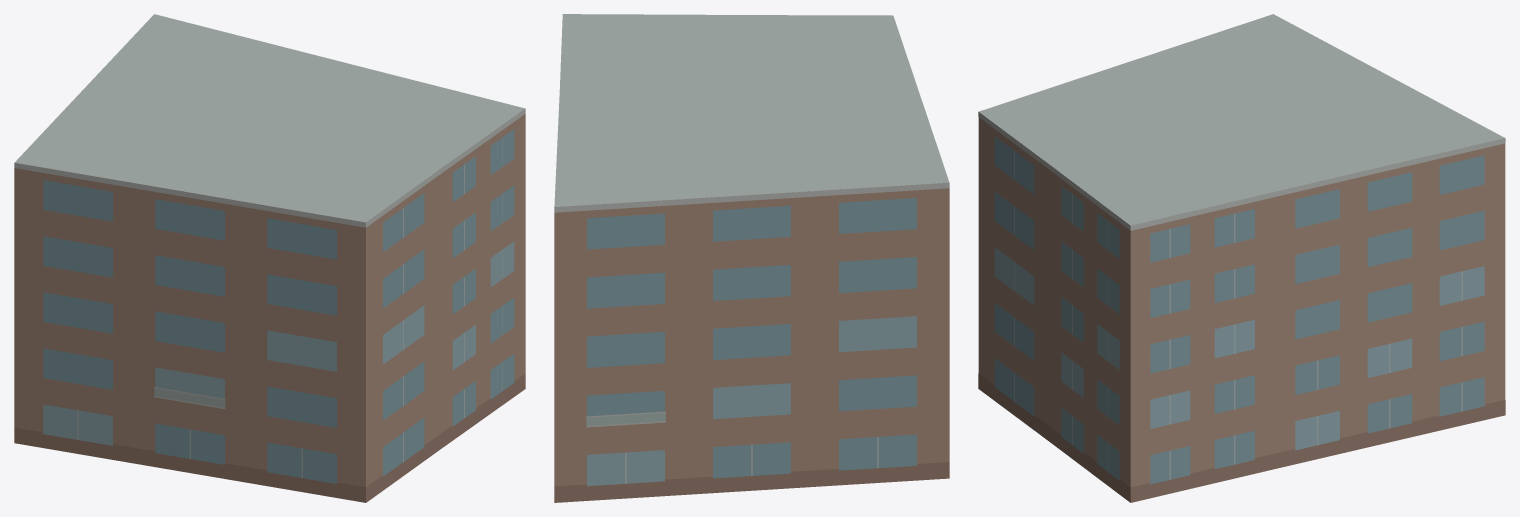
Rendered from survey-upis-32723291.glb.
The picture shows the model from 3 angles, left to right: view 1: azimuth 30°, elevation 25°; view 2: azimuth 150°, elevation 25°; view 3: azimuth 270°, elevation 25°; orthographic projection. The views are drawn at different scales.
Visible parts, largest first — view 1: survey-upis-32723291.tmp; view 2: survey-upis-32723291.tmp; view 3: survey-upis-32723291.tmp.
Part boxes in pixels (x1,y1,x2,y2): survey-upis-32723291.tmp: [14, 14, 525, 502]; survey-upis-32723291.tmp: [554, 14, 949, 502]; survey-upis-32723291.tmp: [978, 14, 1505, 502].
Bounding box in the file's own units: 21.31 × 13 × 22.41.
